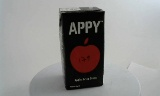appy: (53, 5, 98, 90)
